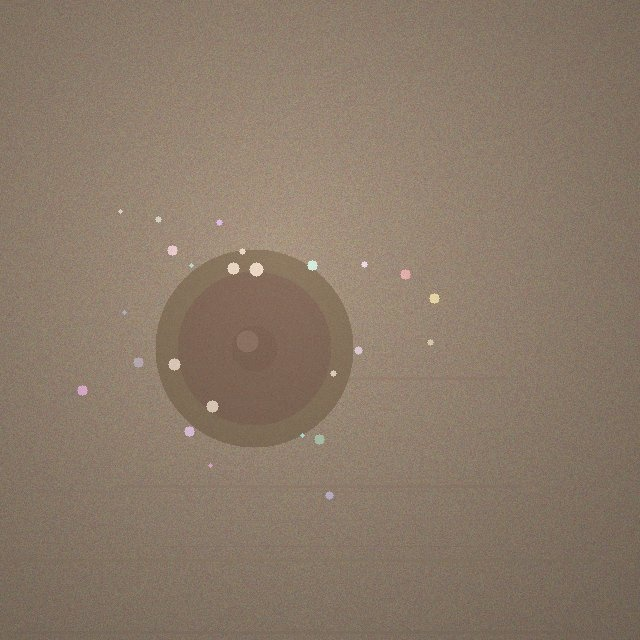overburn: (155, 249, 353, 447)
